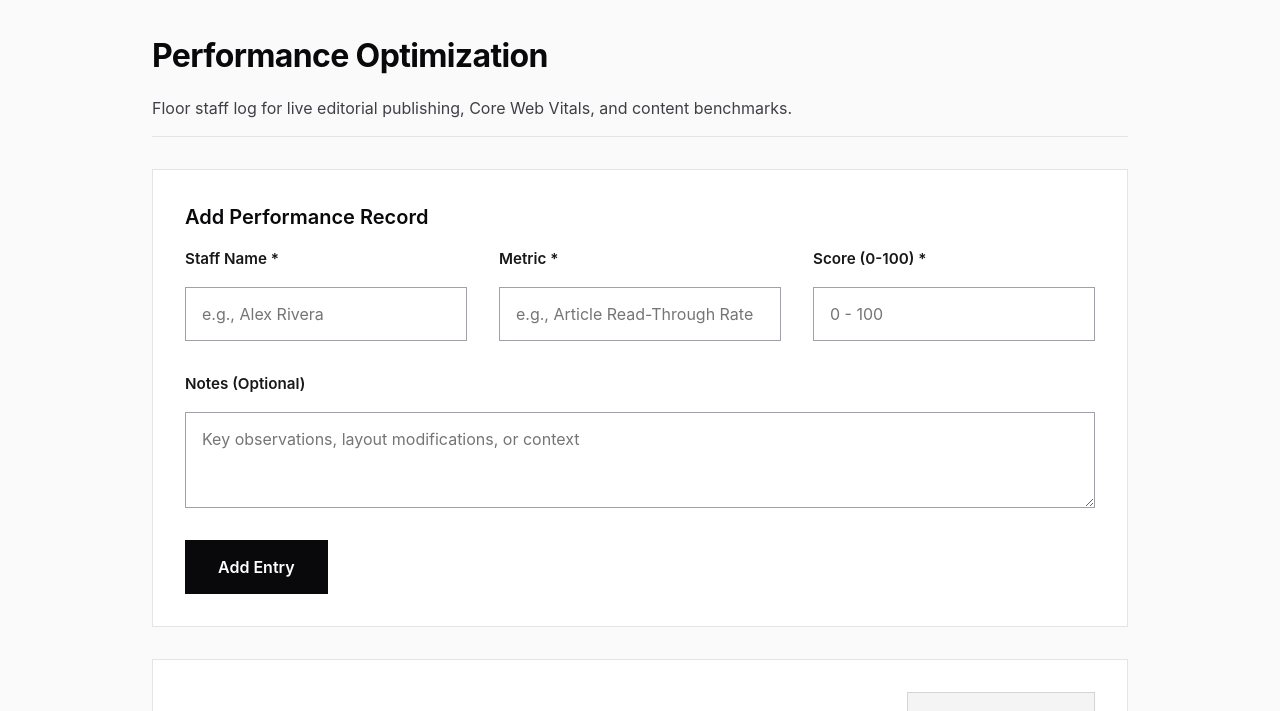
PerformanceOptimization Component › 4. Invalid Input › validates score range outside 0-100
The width and height of the screenshot is (1280, 711).
Type "John Doe" into the field labelled "Staff Name *".
click(326, 314); type("John Doe")  # box [185,287,467,341]
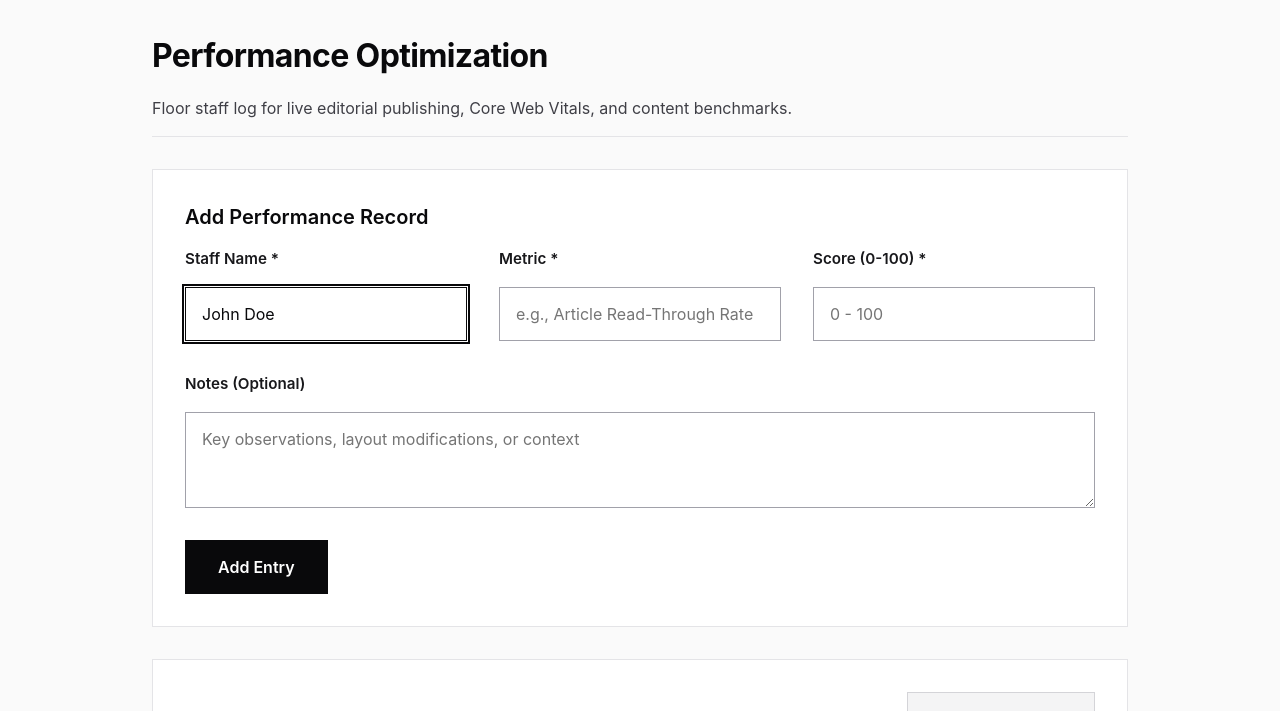
Type "Bounce Rate" into the field labelled "Metric *".
click(640, 314); type("Bounce Rate")  # box [499,287,781,341]
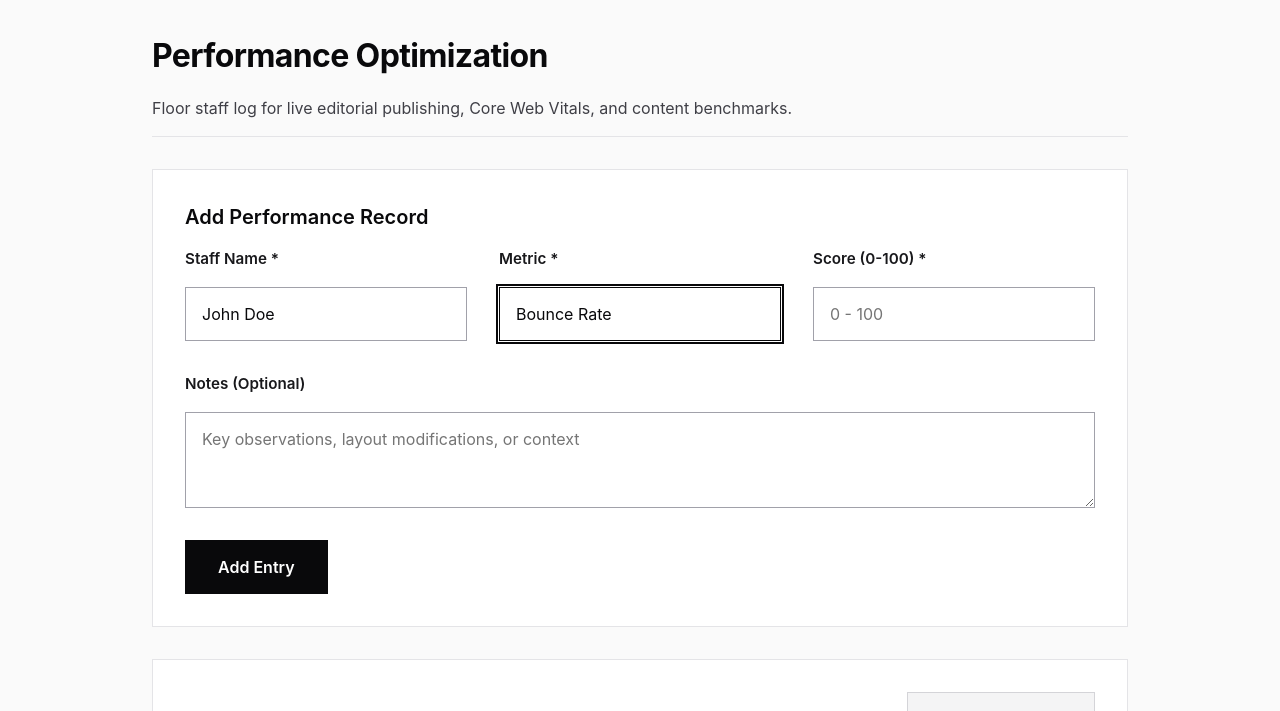
Type "150" into the number field labelled "Score (0-100) *".
click(954, 314); type("150")  # box [813,287,1095,341]
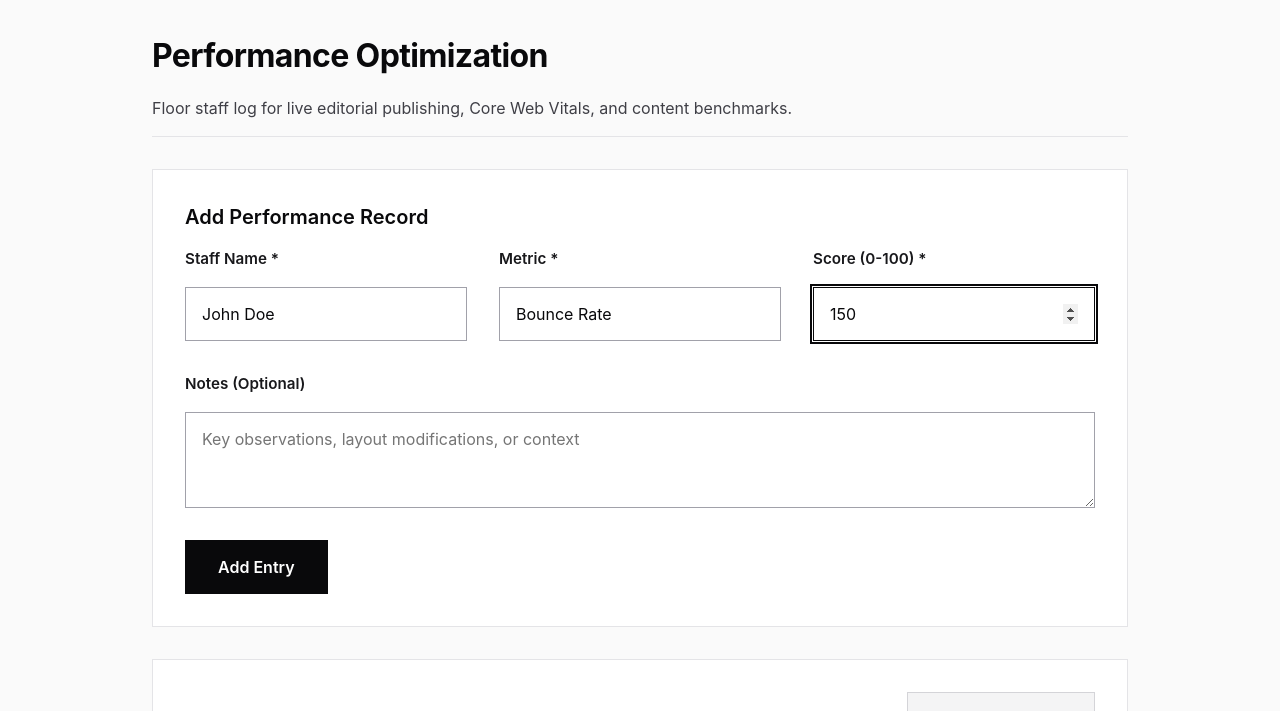
Click the button "Add Entry".
click(256, 567)  # box [185,540,328,594]
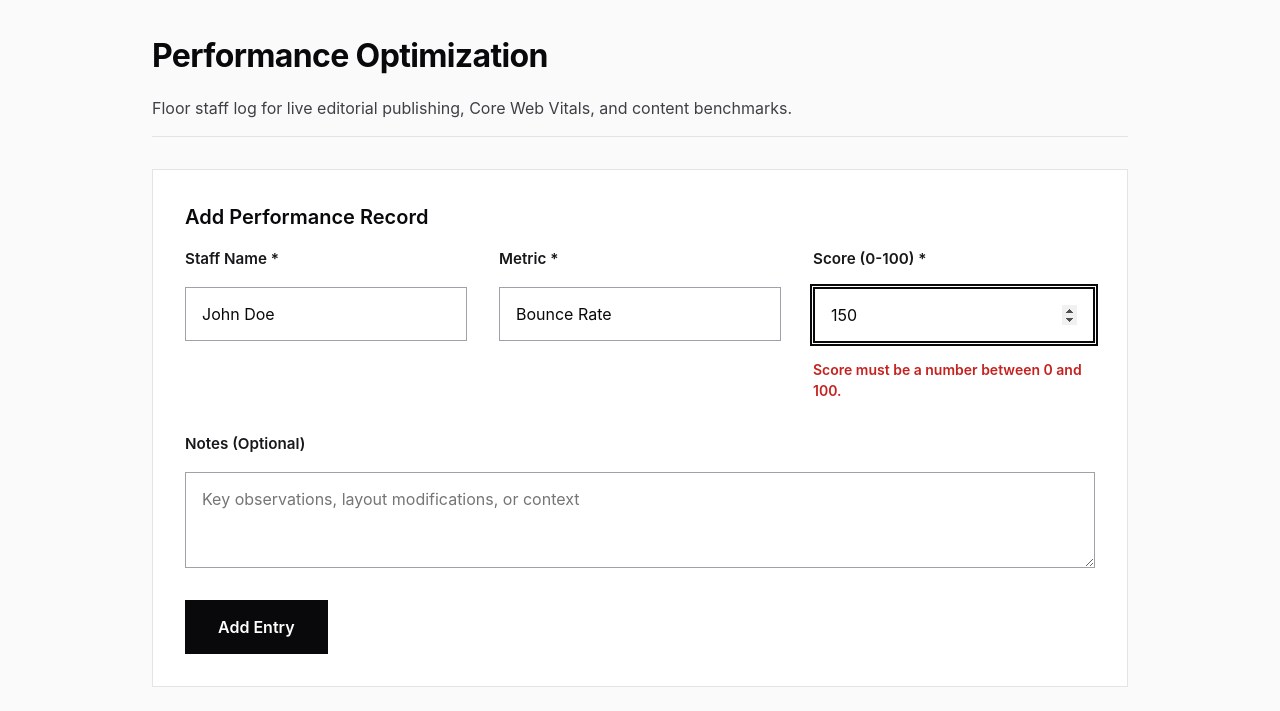
Expected: the number field labelled "Score (0-100) *" is marked as invalid, [813,287,1095,343]
